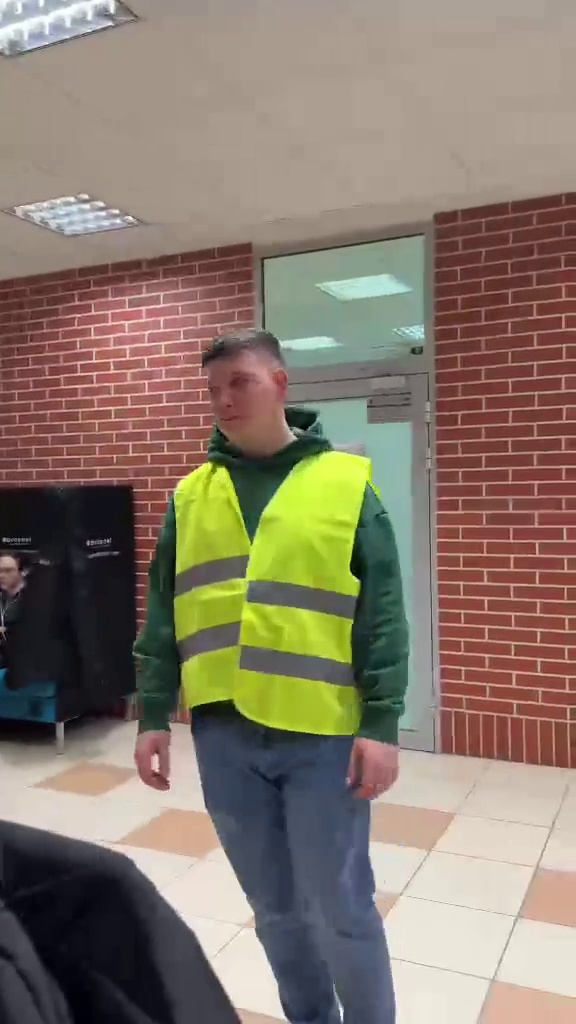vest: (139, 333, 414, 1014)
